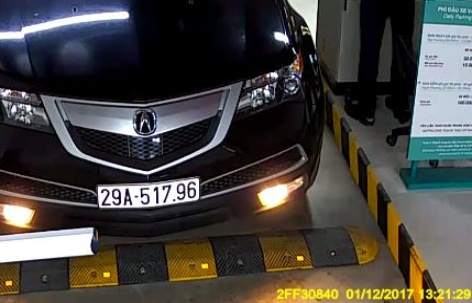plate: (93, 180, 204, 212)
